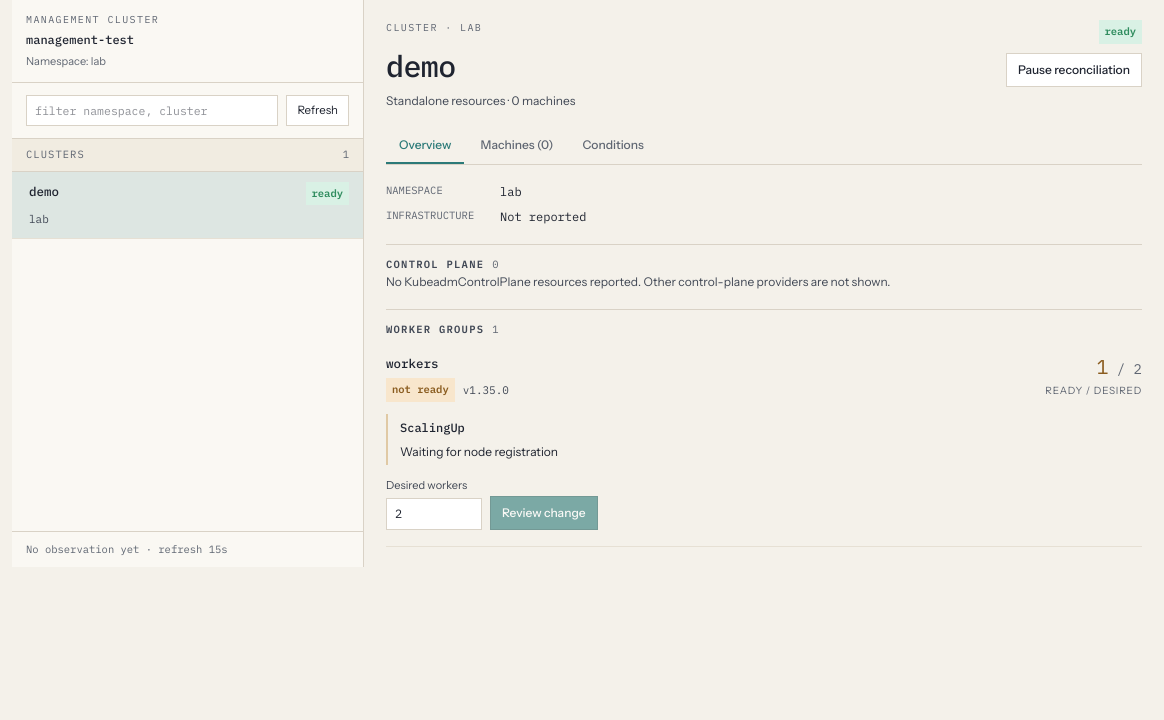
it: Cluster API workspace › disables actions on stale data after refresh fails
The width and height of the screenshot is (1164, 720).
Check: the number field is shown, box [386, 498, 482, 530]
Click the button "Refresh".
click(318, 110)  # box [286, 94, 349, 126]
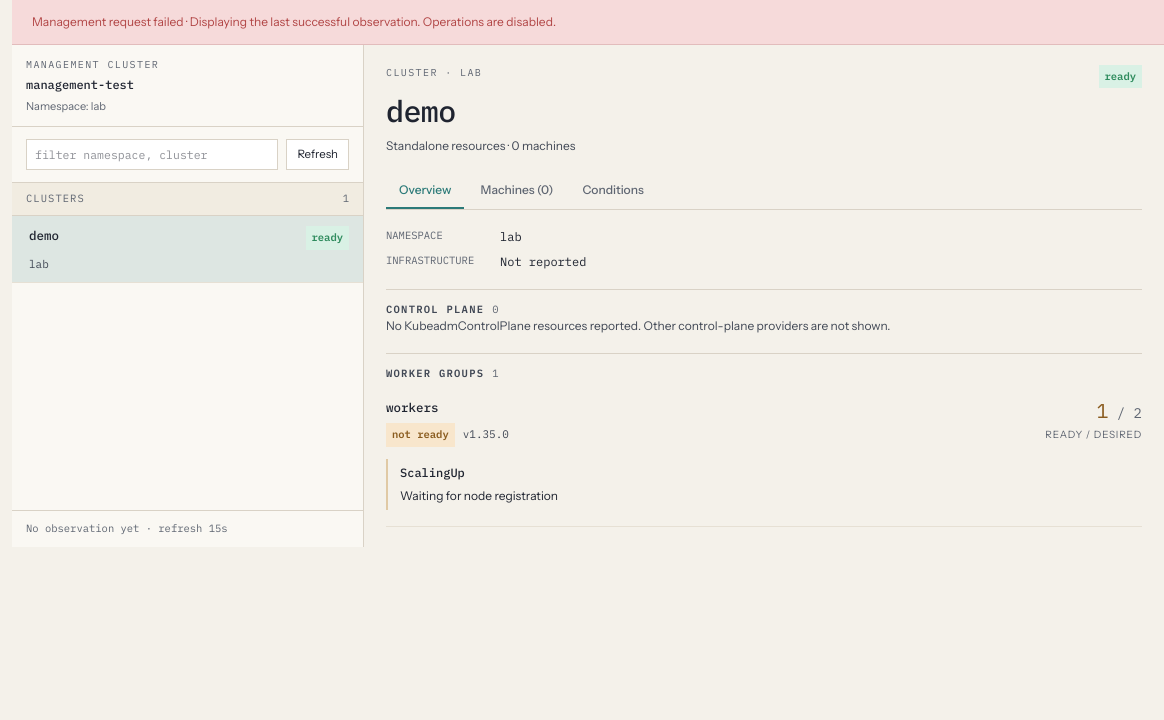
Check: the message shows "last successful observation", box [184, 14, 556, 29]
Check: the button "Pause reconciliation" is gone
